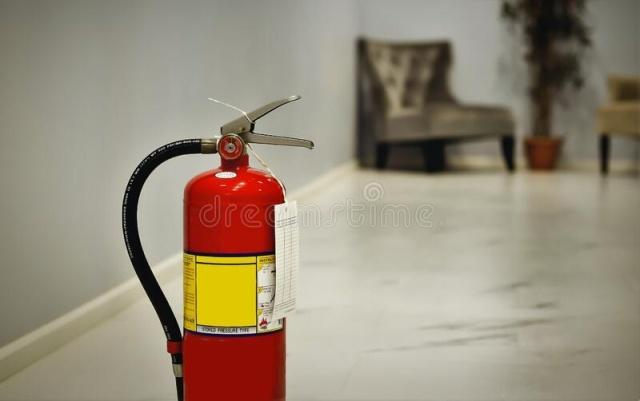APAR: (180, 94, 314, 400)
